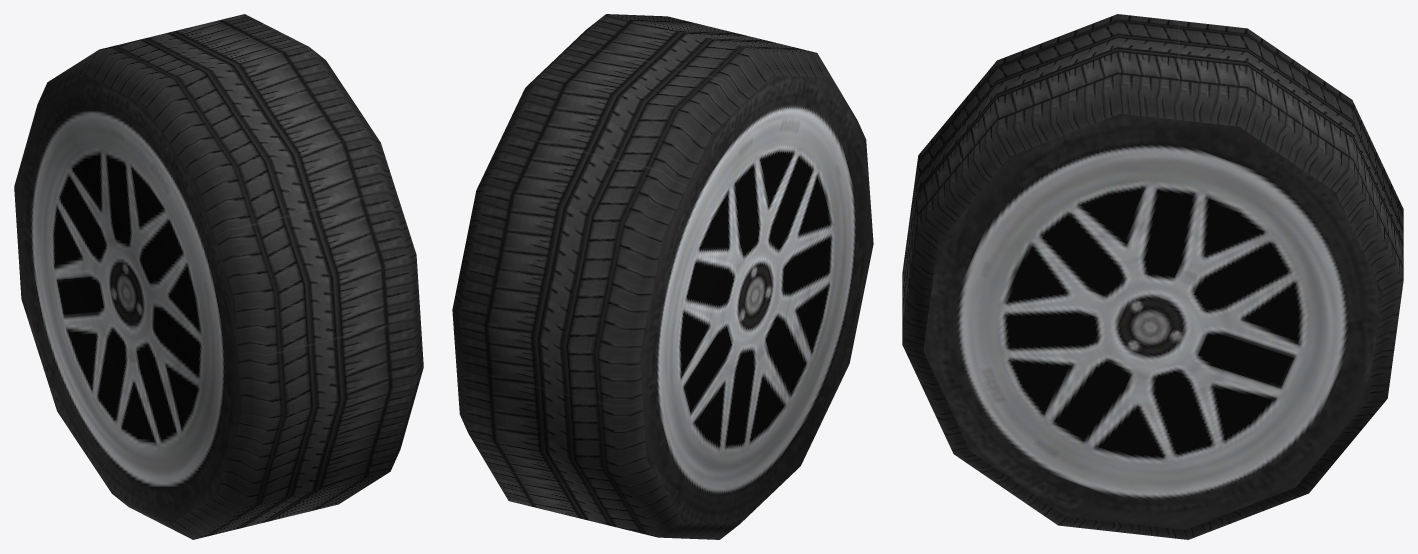
File: WheelGT.FBX
The picture shows the model from 3 angles, left to right: view 1: azimuth 30°, elevation 25°; view 2: azimuth 150°, elevation 25°; view 3: azimuth 270°, elevation 25°; orthographic projection. The views are drawn at different scales.
Parts seen in each view (by area): view 1: wheelGT001; view 2: wheelGT001; view 3: wheelGT001.
Part boxes in pixels (bbox=[...]): wheelGT001: bbox=[14, 14, 423, 539]; wheelGT001: bbox=[452, 14, 873, 539]; wheelGT001: bbox=[902, 14, 1403, 539].
Size of the model in its own units: 34.45 by 81.43 by 81.43.
